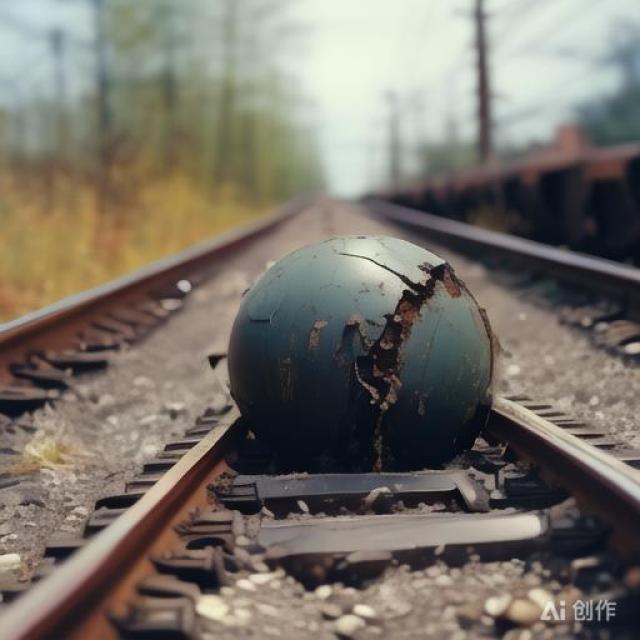Stone: (203, 230, 503, 471)
